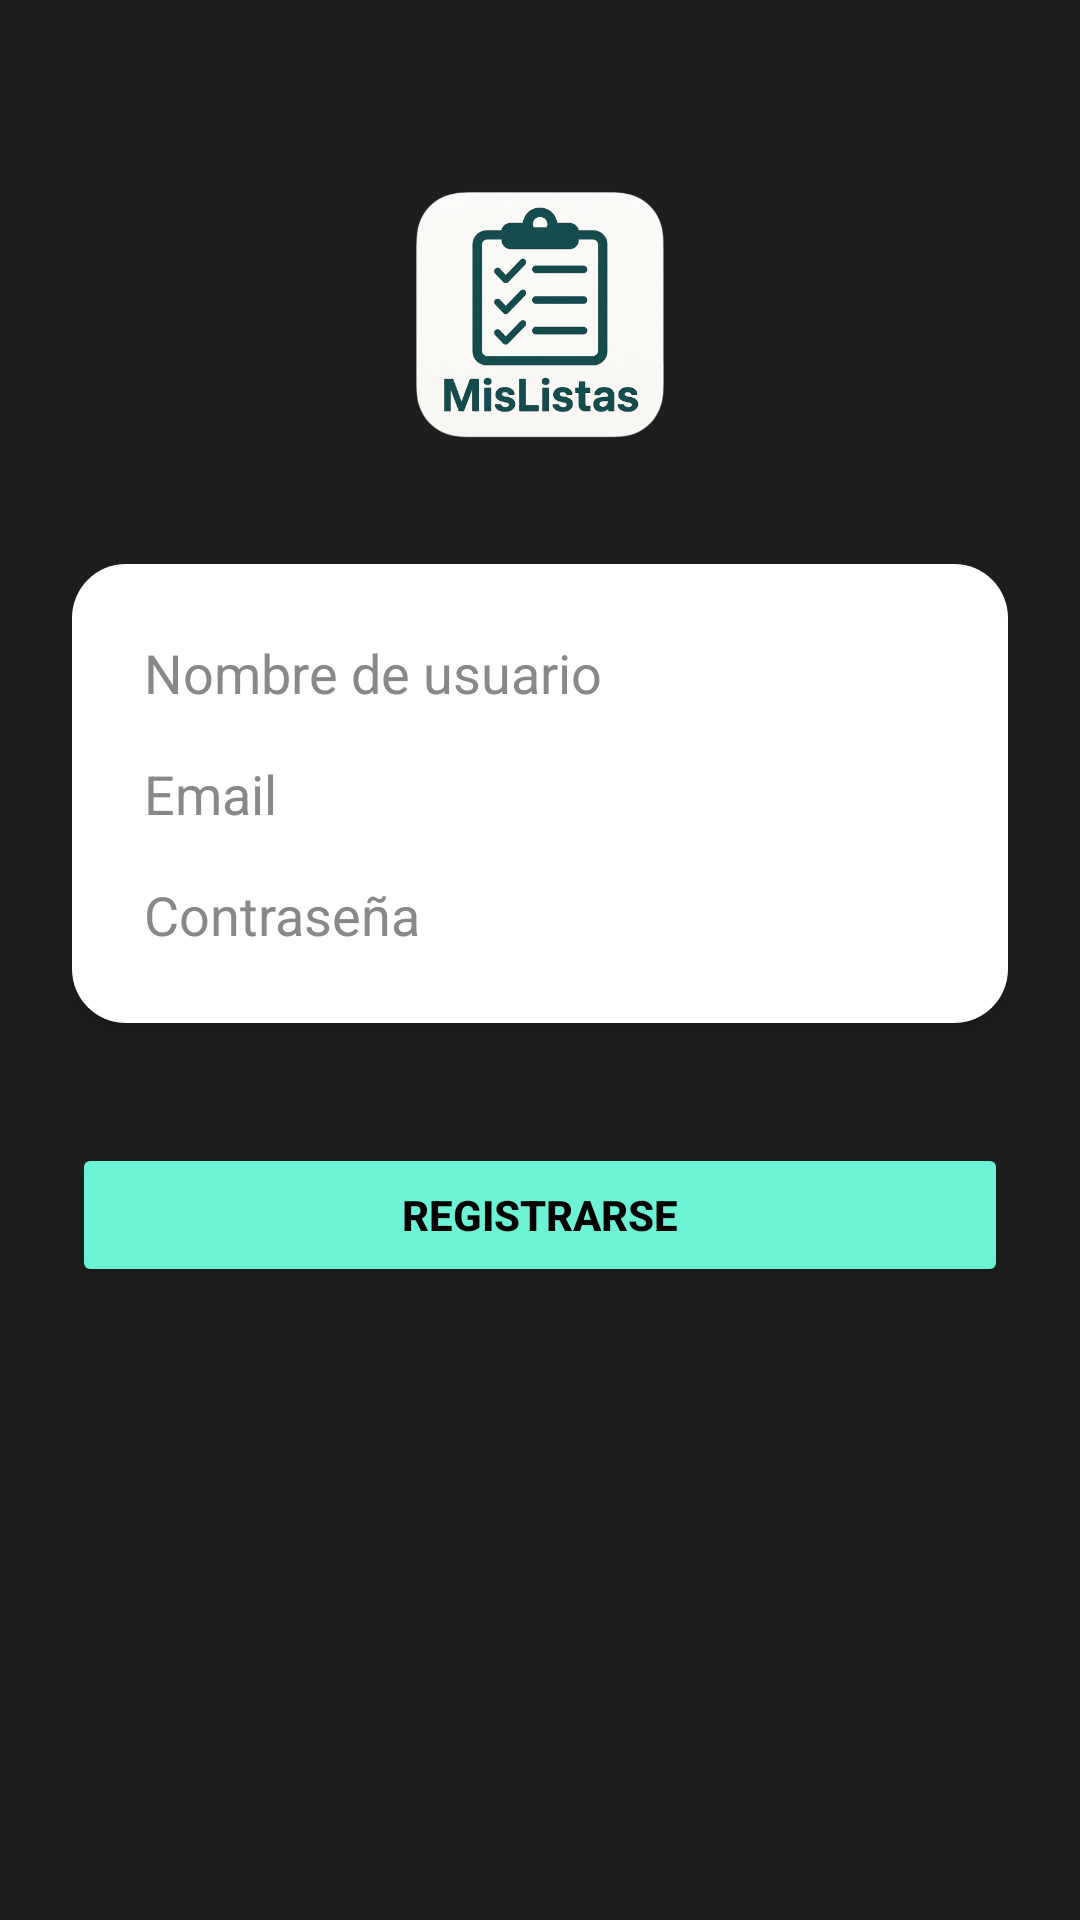

Named icons in this screenshot (1080 x 1920) and their bounding boxes, bbox=[x1, y1, x2, y2]:
iconapp: bbox=[416, 192, 664, 437]
